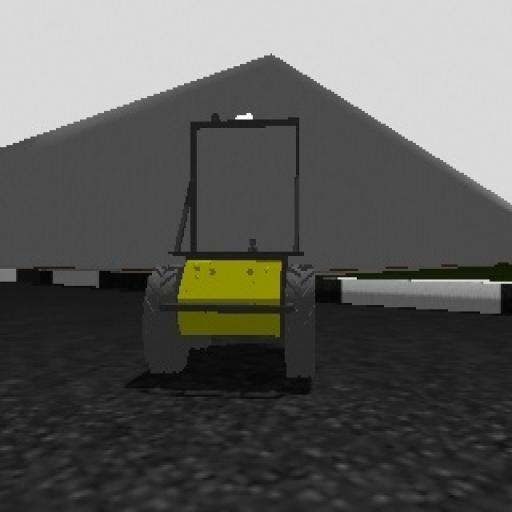huskya200: (138, 111, 322, 395)
